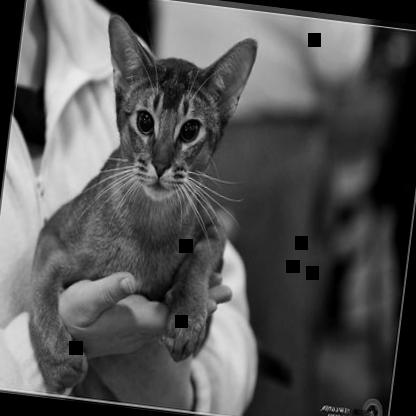cat: (17, 6, 260, 412)
